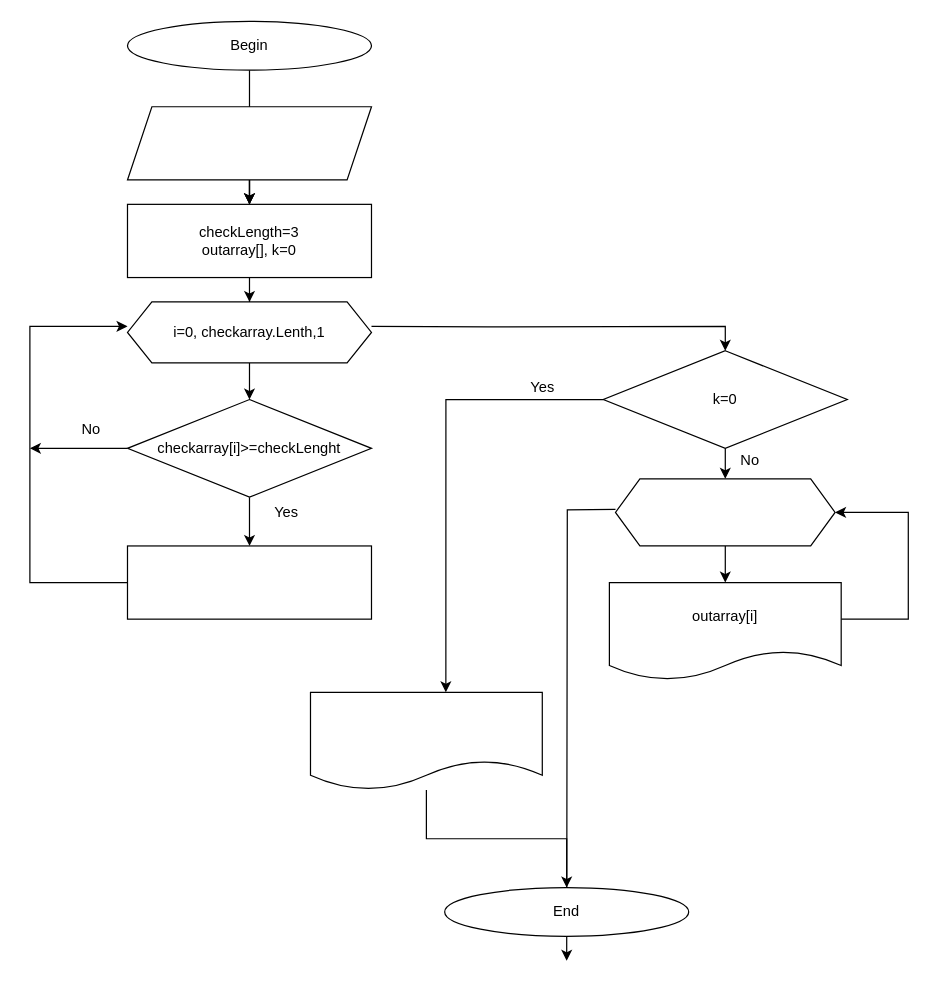
Image size: 939x992. Some labels were removed from this diagram. The shapes that lost their labels are listed below. From the top down, each one's box as (x1, y1, x2, y2) in pixels, then its label:
(126, 106, 371, 180): checkarray[]
(614, 478, 835, 546): i=0,k,1
(126, 545, 371, 619): outarray[k]=checkarray[i] k=k+1
(309, 691, 542, 790): Массив пуст
